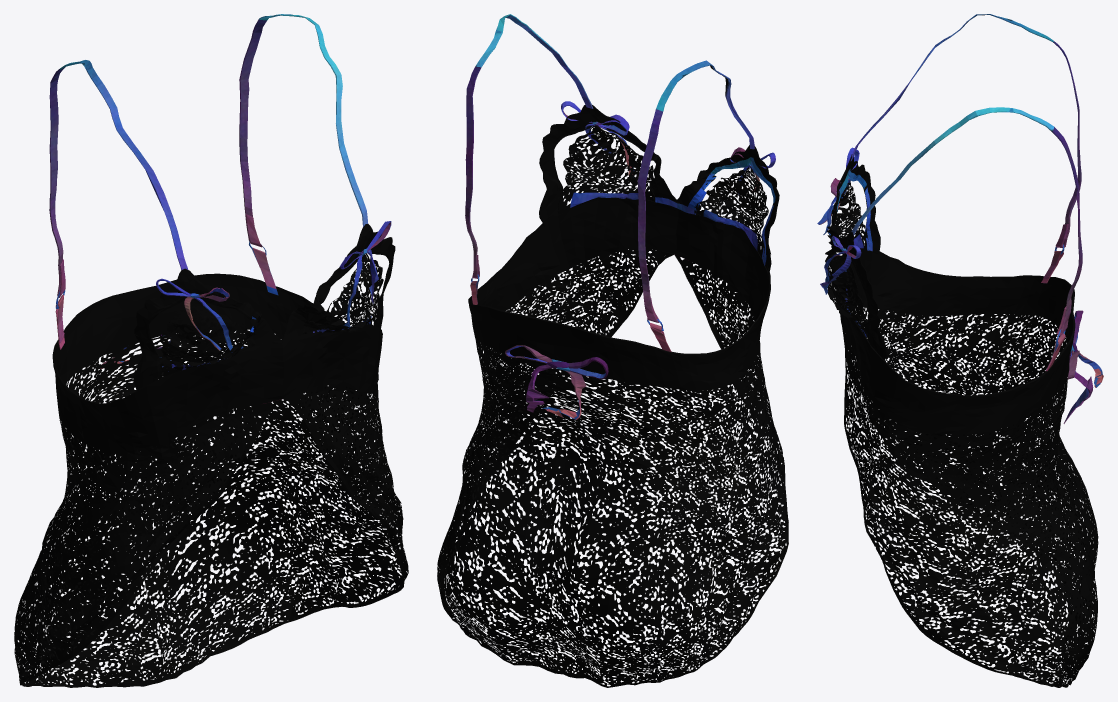
Rendered from mhw_elvs_camisole1.glb.
The picture shows the model from 3 angles, left to right: view 1: azimuth 30°, elevation 25°; view 2: azimuth 150°, elevation 25°; view 3: azimuth 270°, elevation 25°; orthographic projection. The views are drawn at different scales.
Parts seen in each view (by area): view 1: mhw_elvs_camisole1; view 2: mhw_elvs_camisole1; view 3: mhw_elvs_camisole1.
Part boxes in pixels (x1,y1,x2,y2): mhw_elvs_camisole1: (14,14,408,687); mhw_elvs_camisole1: (437,14,788,687); mhw_elvs_camisole1: (817,14,1103,687).
Size of the model in its own units: 0.3758 by 0.6951 by 0.3012.
Materials: 1 (1 with a texture image).
